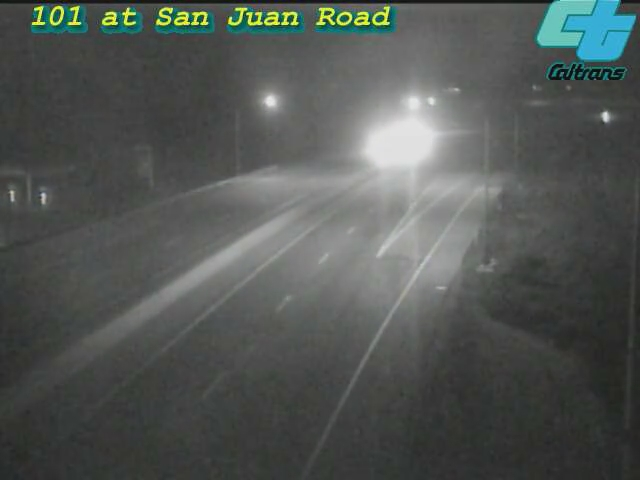vehicle: (581, 91, 631, 141), (352, 122, 402, 172), (376, 115, 426, 165)
